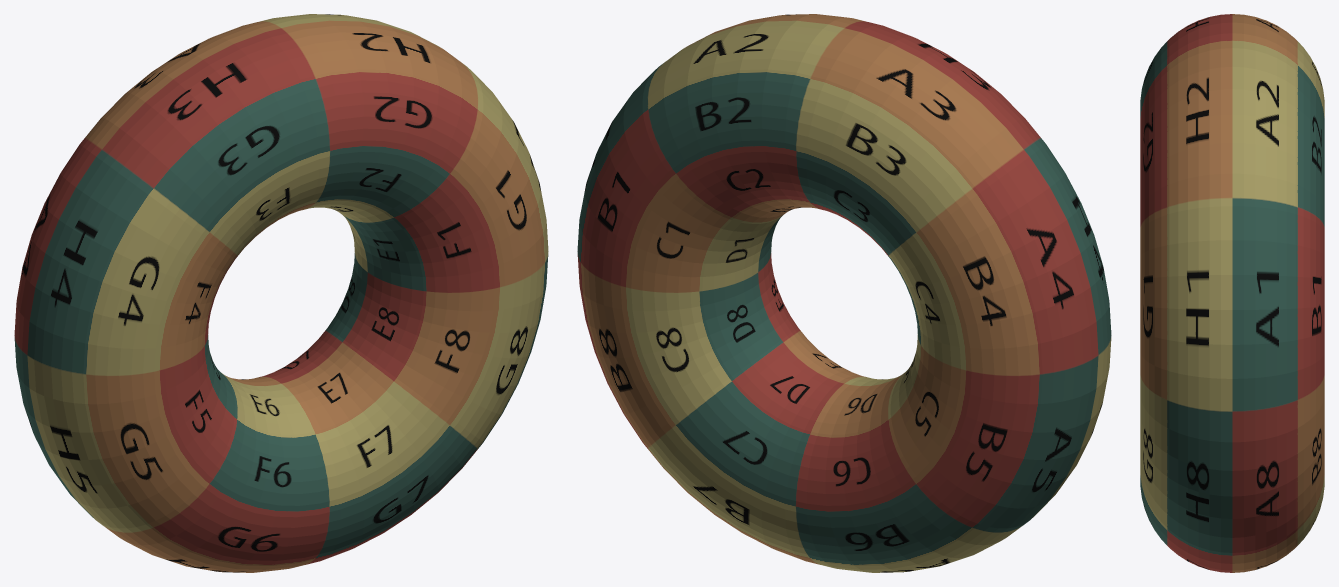
The model's file is texture_torus_R13_r27.glb.
3 renders of one model, left to right at view 1: azimuth 30°, elevation 25°; view 2: azimuth 150°, elevation 25°; view 3: azimuth 270°, elevation 25°, orthographic. The views are drawn at different scales.
Parts seen in each view (by area): view 1: world; view 2: world; view 3: world.
Boxes of the visible parts, x1,y1,x2,y2 form: world: (14,14,548,572); world: (577,14,1111,572); world: (1140,14,1324,572).
Size of the model in its own units: 27.87 by 27.81 by 9.18.
1 material, 1 textured.
